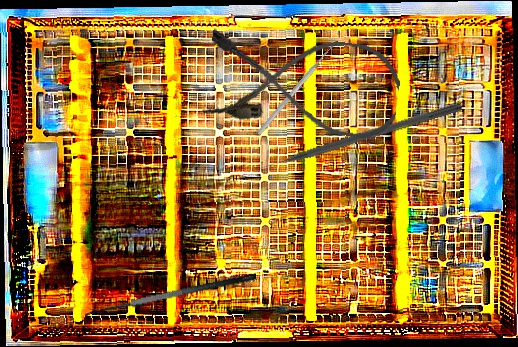Cannula: (201, 24, 405, 142)
Pusher: (251, 99, 464, 175), (255, 38, 340, 137)
Spatula Surgical: (80, 271, 260, 329)
